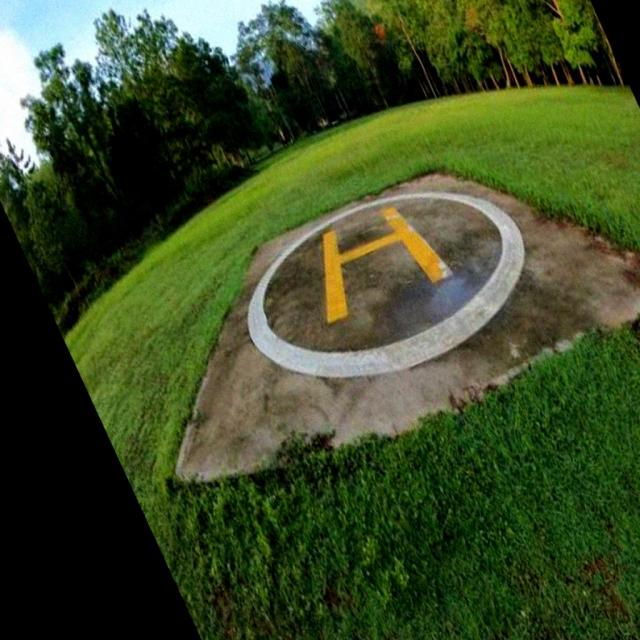helipad: (243, 188, 527, 383)
